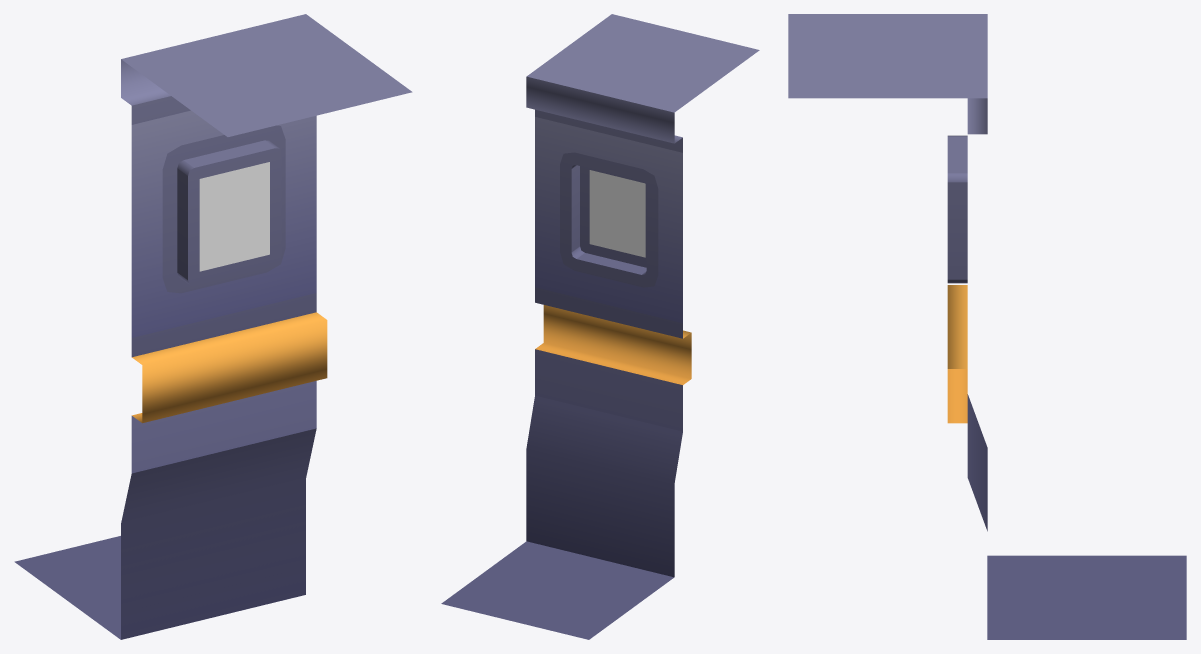
The model's file is structure-window.glb.
3 views of the same model, side by side, from view 1: azimuth 30°, elevation 25°; view 2: azimuth 150°, elevation 25°; view 3: azimuth 270°, elevation 25° (orthographic). The views are drawn at different scales.
Visible parts, largest first — view 1: structure-window; view 2: structure-window; view 3: structure-window.
Boxes of the visible parts, x1,y1,x2,y2 form: structure-window: [14, 14, 412, 639]; structure-window: [441, 14, 759, 639]; structure-window: [788, 14, 1186, 639].
Bounding box in the file's own units: 1 × 3 × 2.
